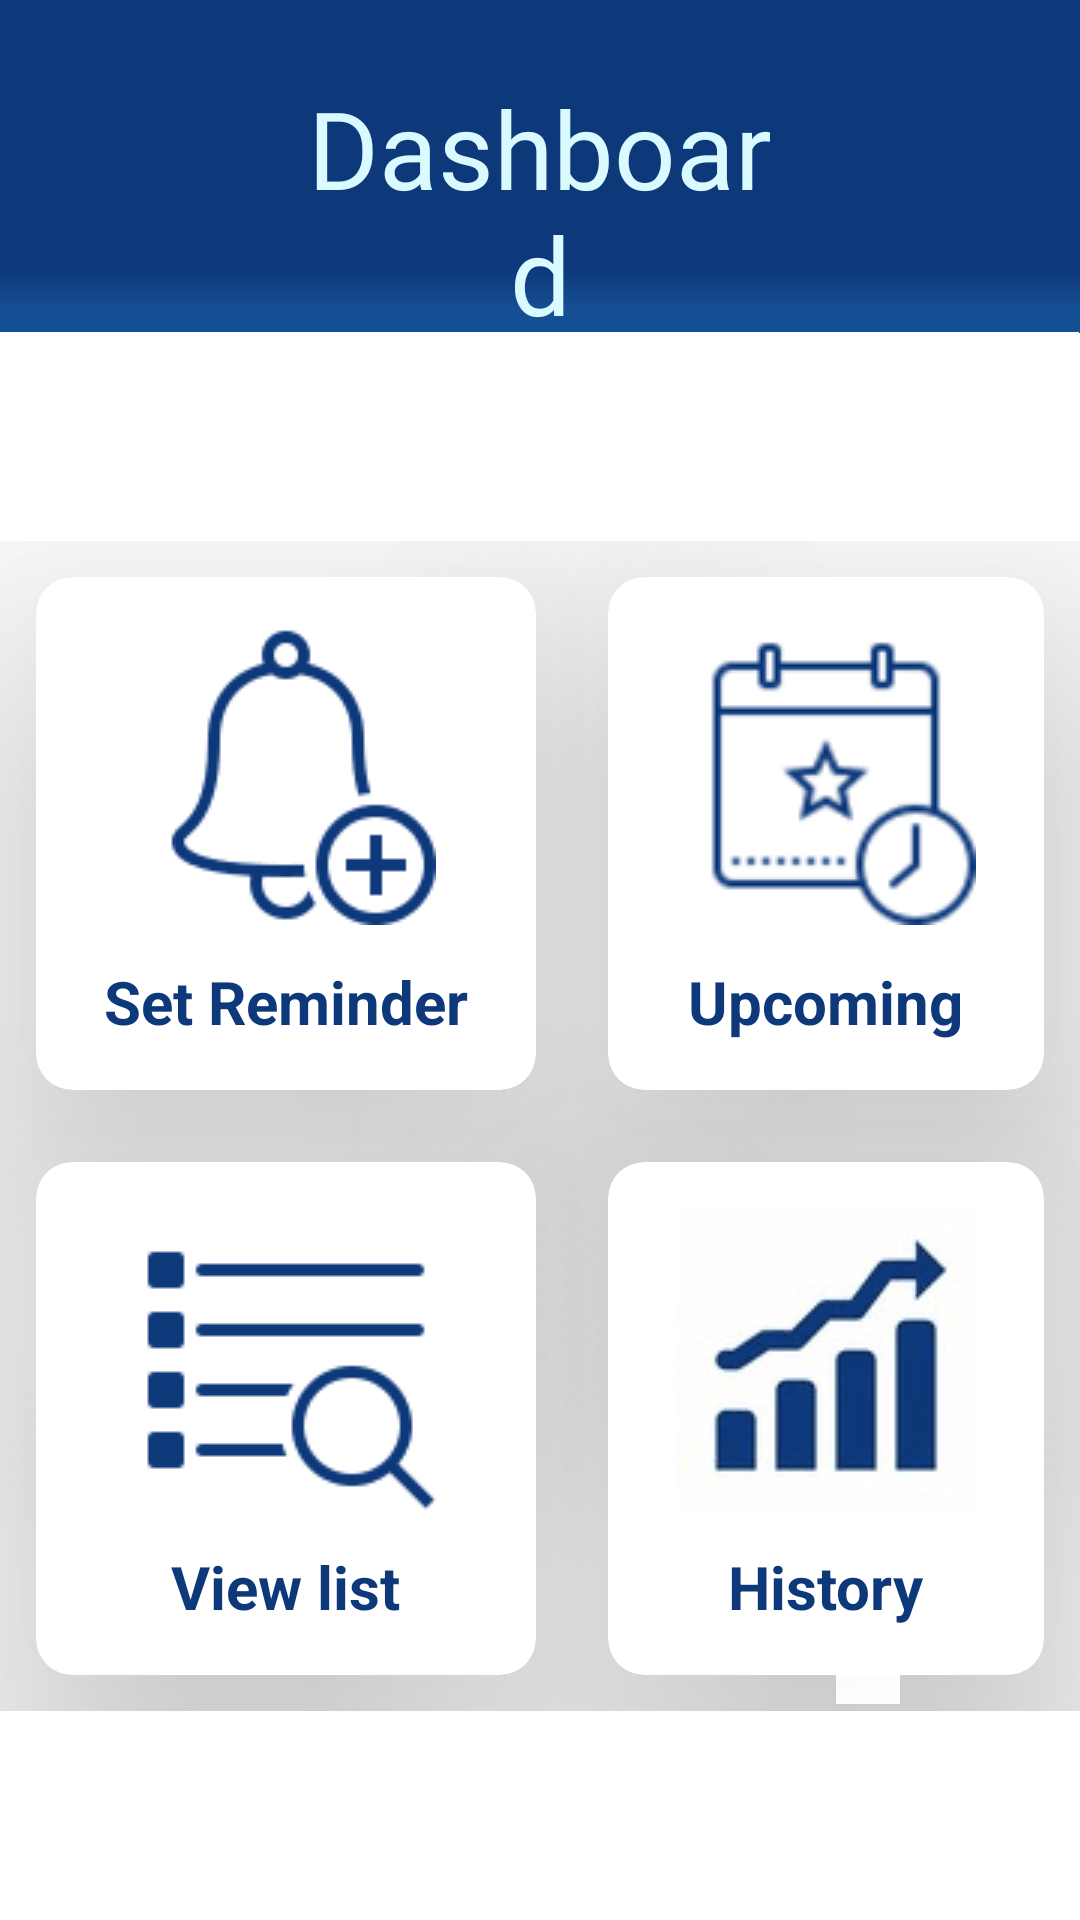

Where to tap for icons on this 1080 × 1920 app screen, as (x,y):
track progress: (830,1355)
